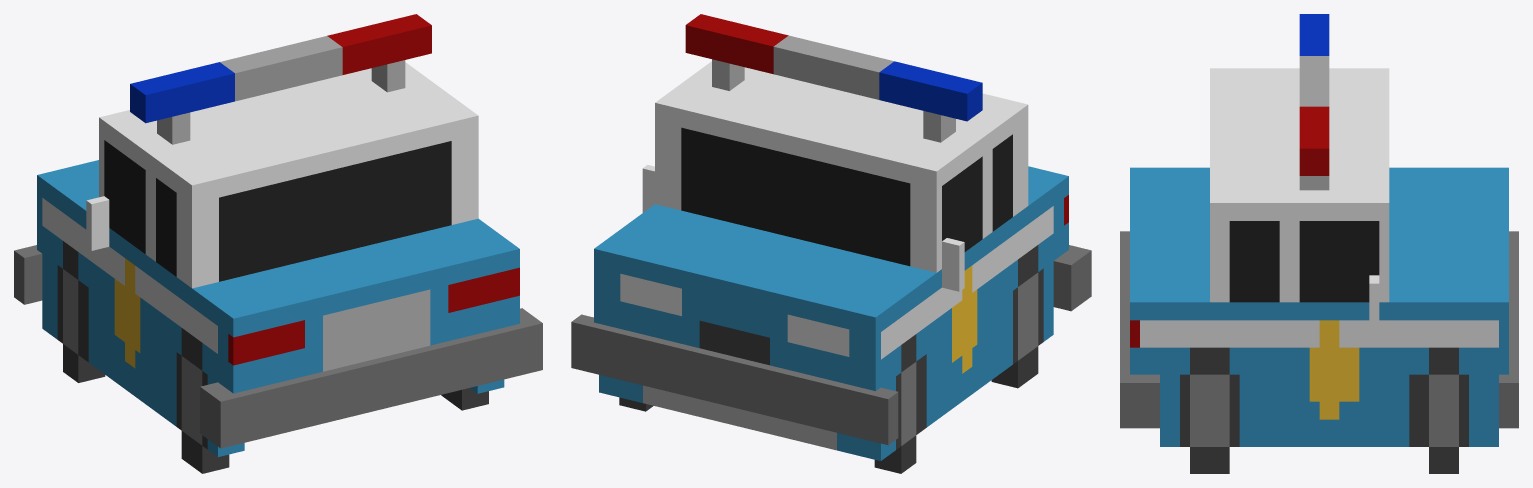
Rendered from Enemigo_basico.obj.
3 renders of one model, left to right at view 1: azimuth 30°, elevation 25°; view 2: azimuth 150°, elevation 25°; view 3: azimuth 270°, elevation 25°, orthographic. The views are drawn at different scales.
Bounding box in the file's own units: 3.6 × 3.6 × 4.
1 material, 1 textured.
